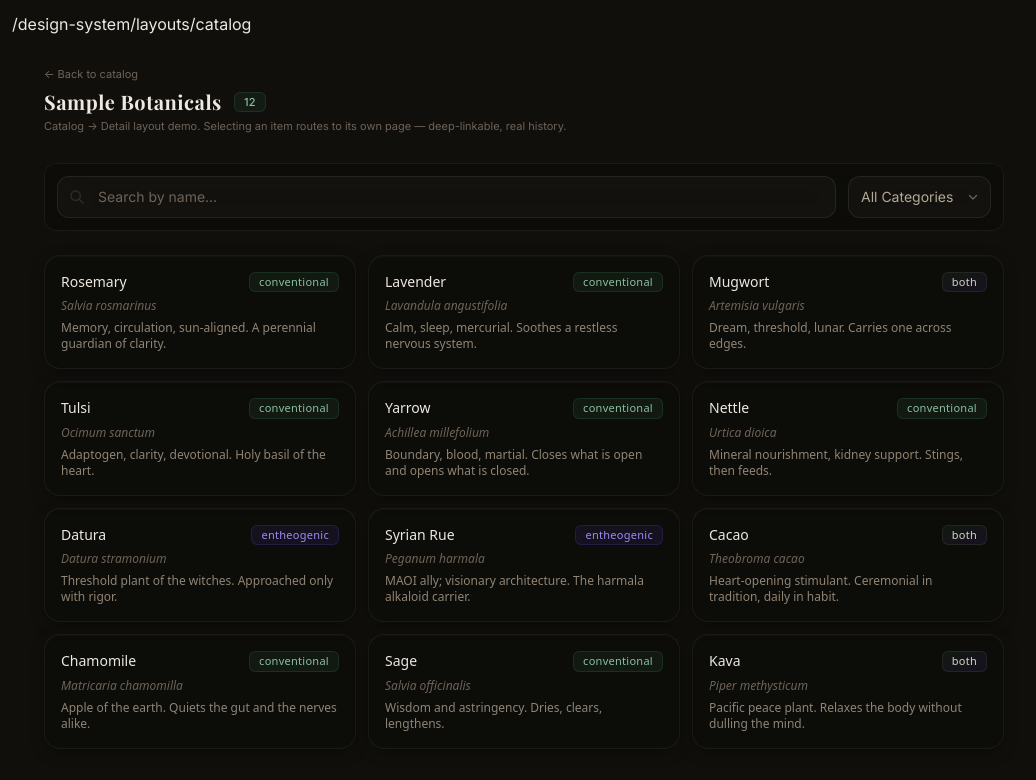
Test: CatalogDemo — composes the canonical Catalog layout with FilterBar › typing in the search input narrows the visible grid
Type "rose" into the search field labelled "Search by name…" at (446, 196), box x1=57 y1=176 x2=836 y2=218
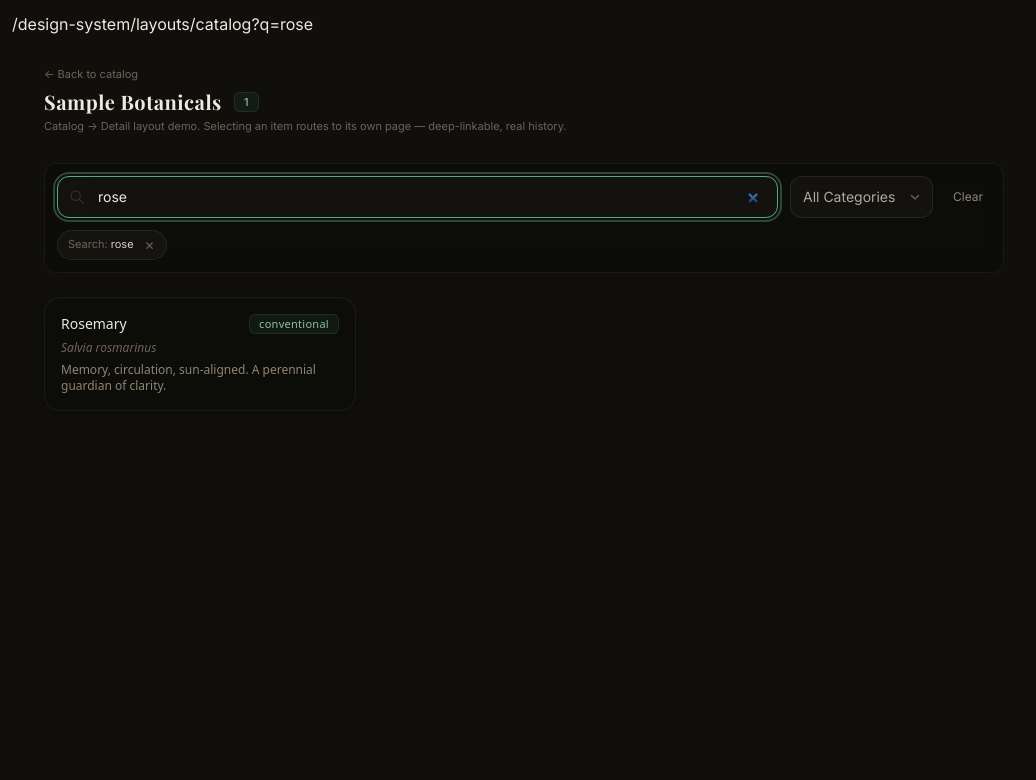
Expected: the text "Rosemary" is shown, x1=61 y1=314 x2=127 y2=334
Expected: the link "Tulsi" is gone
